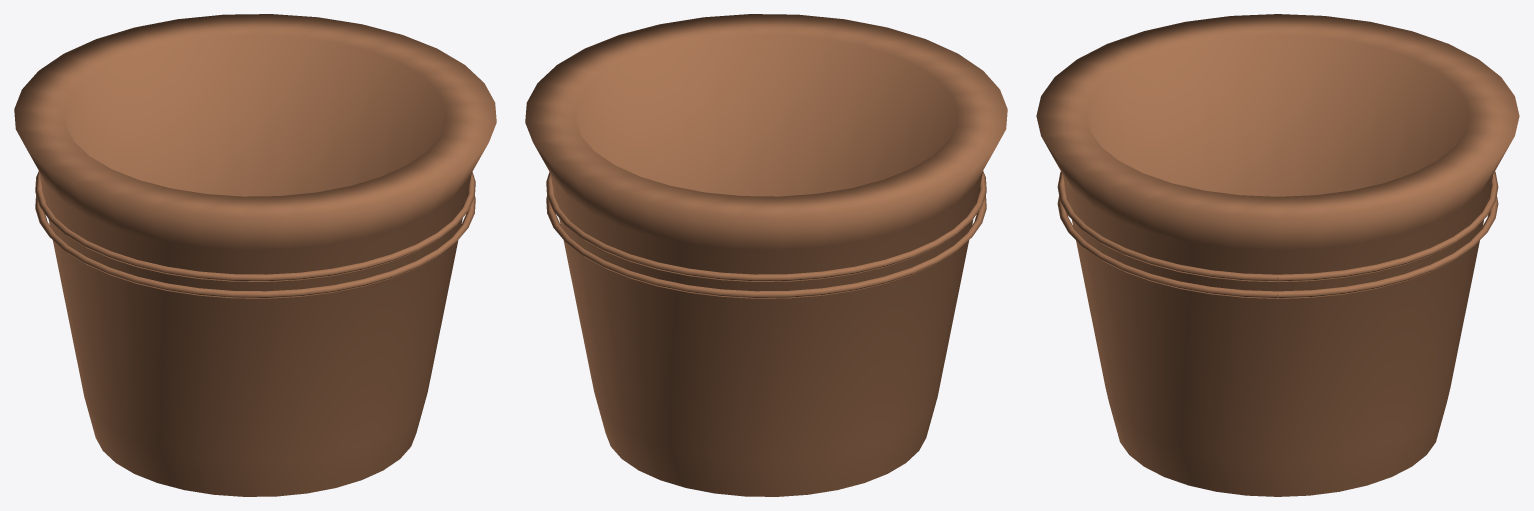
Rendered from cup_julia.glb.
3 views of the same model, side by side, from view 1: azimuth 30°, elevation 25°; view 2: azimuth 150°, elevation 25°; view 3: azimuth 270°, elevation 25° (orthographic).
Visible parts, largest first — view 1: cup_julia; view 2: cup_julia; view 3: cup_julia.
Part boxes in pixels (x1,y1,x2,y2): cup_julia: (14,14,496,496); cup_julia: (525,14,1007,496); cup_julia: (1036,14,1519,496).
Size of the model in its own units: 0.21 by 0.15 by 0.21.
